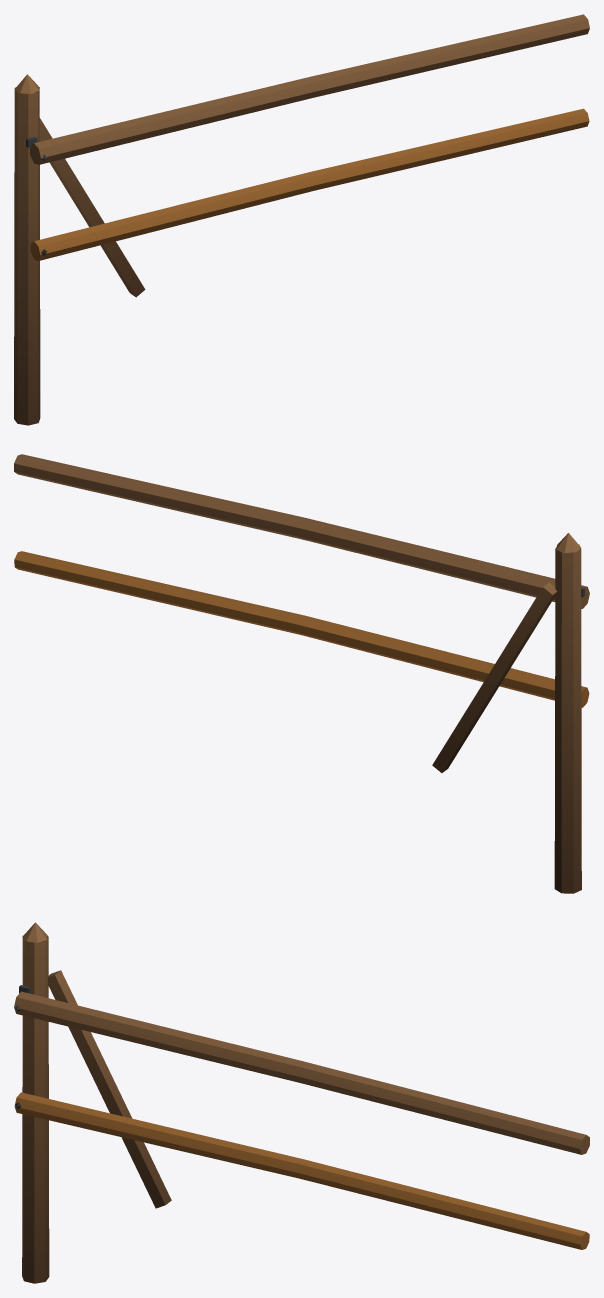
Rendered from Wood_Fence.fbx.
3 views of the same model, one above another, from view 1: azimuth 30°, elevation 25°; view 2: azimuth 150°, elevation 25°; view 3: azimuth 330°, elevation 25° (orthographic). The views are drawn at different scales.
Parts seen in each view (by area): view 1: Wood_Fence_LOD0; view 2: Wood_Fence_LOD0; view 3: Wood_Fence_LOD0.
Part boxes in pixels (x1,y1,x2,y2): Wood_Fence_LOD0: (14, 14, 589, 425); Wood_Fence_LOD0: (14, 454, 589, 893); Wood_Fence_LOD0: (14, 922, 589, 1283).
Size of what is drawn, in the model's own units: 3.08 by 1.83 by 0.2784.
1 material, 1 textured.
